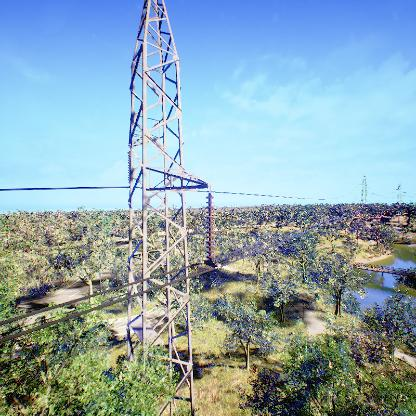insulator: (204, 192, 215, 261)
